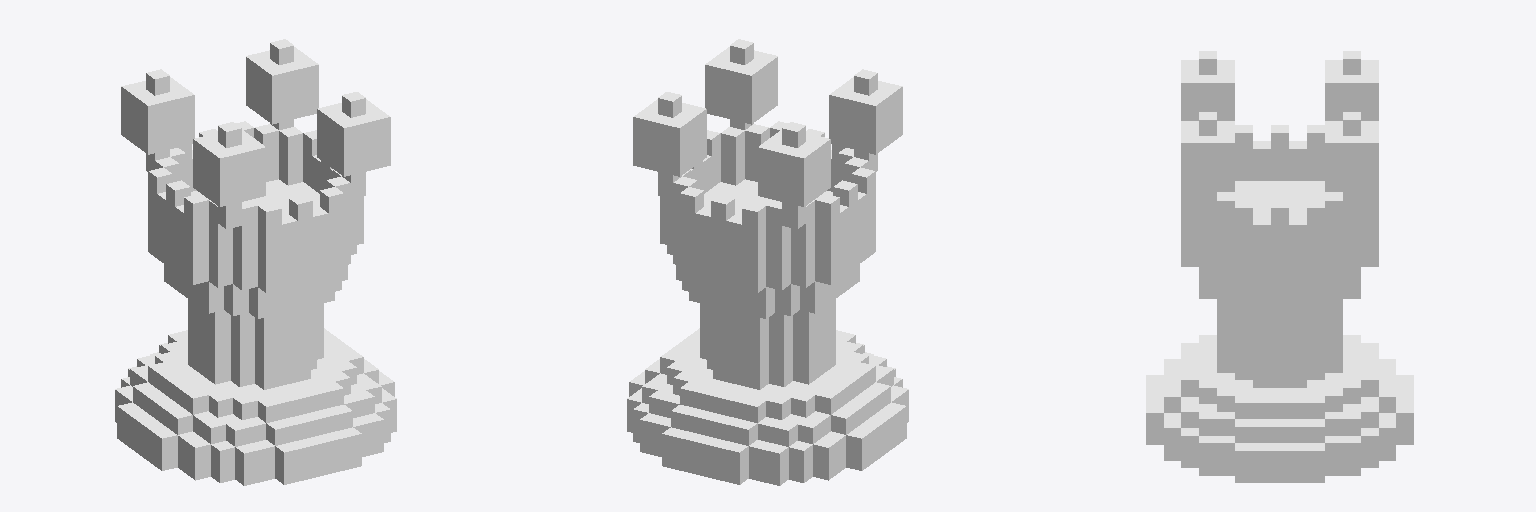
Rendered from KingB.obj.
3 renders of one model, left to right at view 1: azimuth 30°, elevation 25°; view 2: azimuth 150°, elevation 25°; view 3: azimuth 270°, elevation 25°, orthographic.
Visible parts, largest first — view 1: object 1; view 2: object 1; view 3: object 1.
Part boxes in pixels (x1,y1,x2,y2): object 1: (115, 39, 396, 485); object 1: (627, 39, 908, 485); object 1: (1146, 51, 1413, 482).
Bounding box in the file's own units: 1.5 × 2.1 × 1.5.